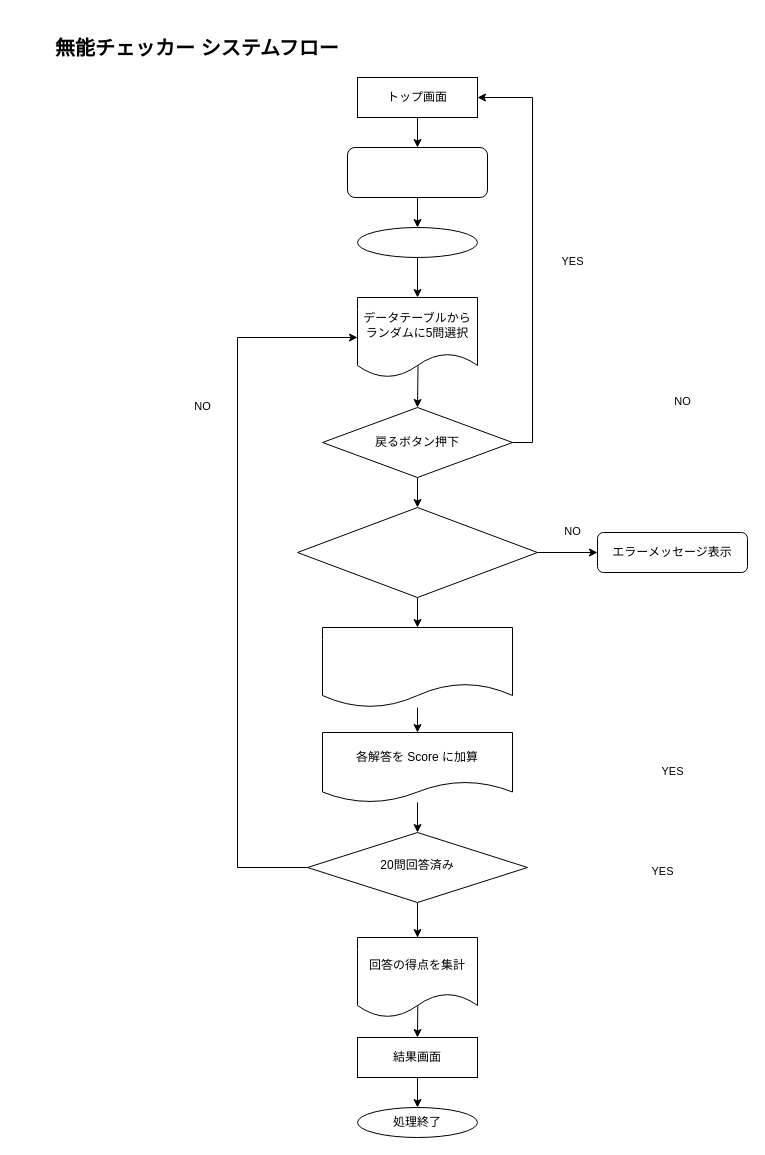
This 765x1155 diagram has some shape labels left out. Here are the shapes that lost their labels. From the top down, the centre of each, then its label:
At (x=417, y=172): "開始ボタン押下".
At (x=417, y=242): "処理開始".
At (x=417, y=552): "ラジオボタン5個選択済みで 「次へ」ボタン押下".
At (x=417, y=667): "回答された5問の Flag を True にし選択対象外に".
